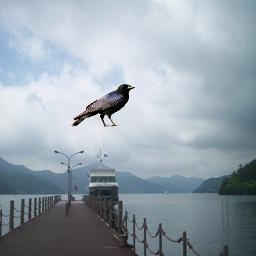Crow: (71, 83, 135, 127)
